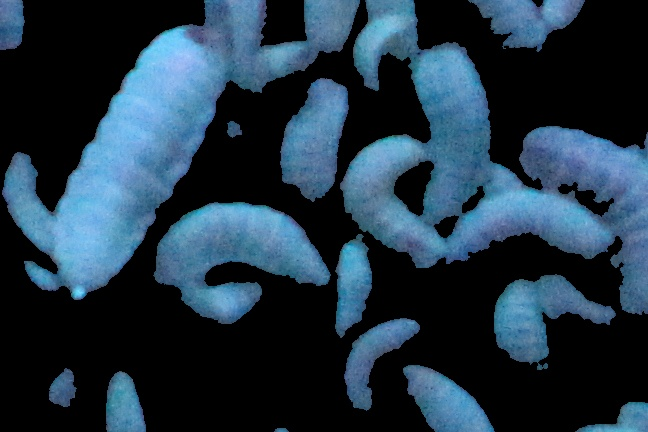larvae: (57, 27, 220, 288), (156, 208, 330, 292), (413, 47, 494, 209), (520, 123, 648, 222), (359, 149, 452, 256), (451, 194, 608, 257), (292, 85, 346, 211), (503, 290, 567, 395), (53, 317, 133, 401), (439, 1, 551, 59), (350, 317, 414, 417), (181, 281, 286, 339), (403, 366, 492, 432), (231, 38, 304, 106), (6, 149, 55, 244), (338, 246, 374, 339), (356, 9, 395, 94), (217, 1, 264, 68), (386, 1, 425, 78), (106, 375, 147, 432), (309, 1, 358, 47), (1, 1, 28, 48)
